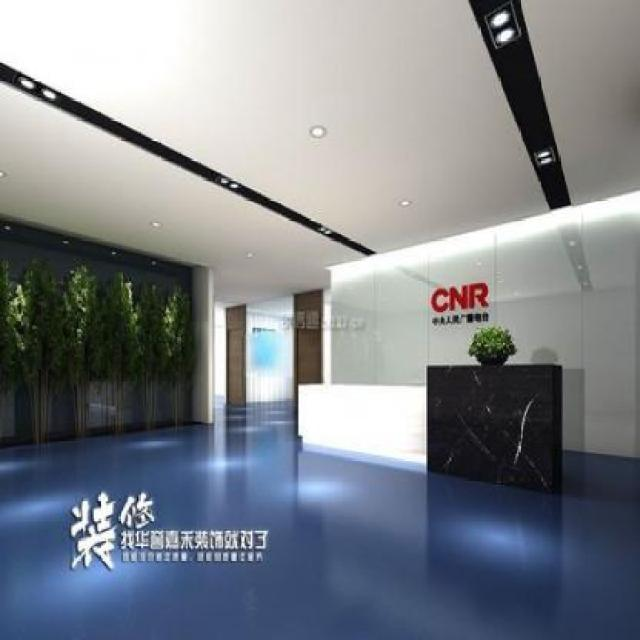frontdesk: (284, 357, 572, 505)
